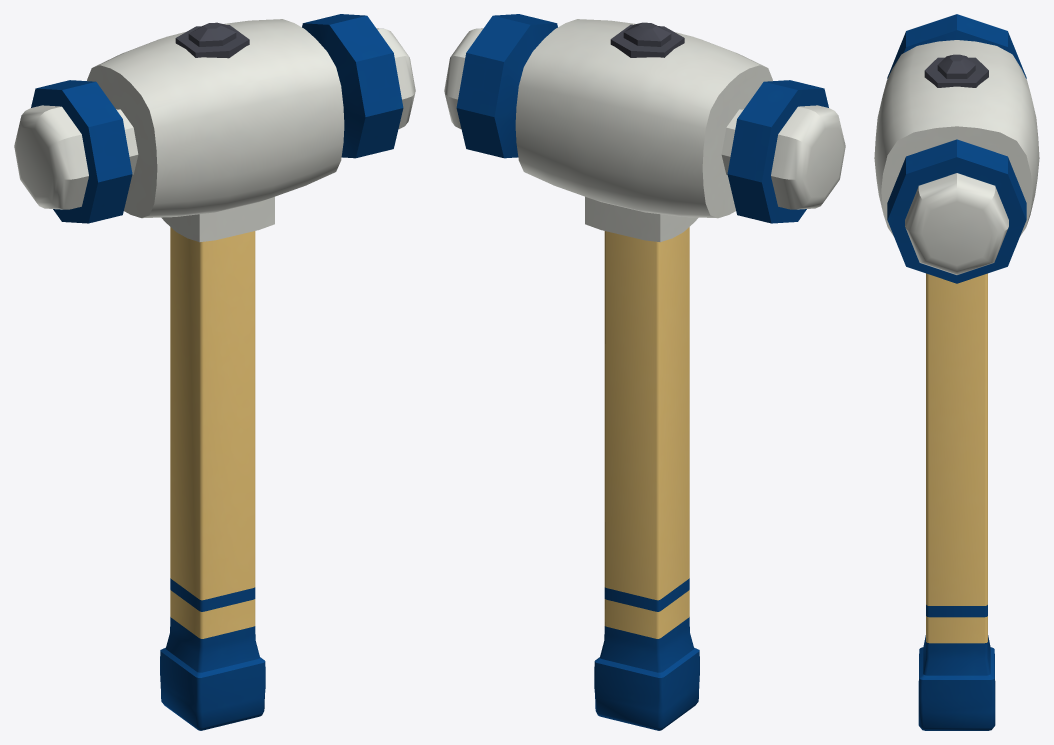
The model's file is Hammer_Lvl_4.fbx.
3 views of the same model, side by side, from view 1: azimuth 30°, elevation 25°; view 2: azimuth 150°, elevation 25°; view 3: azimuth 270°, elevation 25° (orthographic). The views are drawn at different scales.
Visible parts, largest first — view 1: Hammer_Lvl4_Head, Hammer_Lvl4_Handle; view 2: Hammer_Lvl4_Head, Hammer_Lvl4_Handle; view 3: Hammer_Lvl4_Head, Hammer_Lvl4_Handle.
Part boxes in pixels (<box>): Hammer_Lvl4_Head: <box>14,14,415,242</box>; Hammer_Lvl4_Handle: <box>160,227,265,730</box>; Hammer_Lvl4_Head: <box>444,14,845,242</box>; Hammer_Lvl4_Handle: <box>594,227,699,730</box>; Hammer_Lvl4_Head: <box>874,14,1039,283</box>; Hammer_Lvl4_Handle: <box>918,273,995,730</box>.
Bounding box in the file's own units: 38.62 × 70.28 × 15.94.
